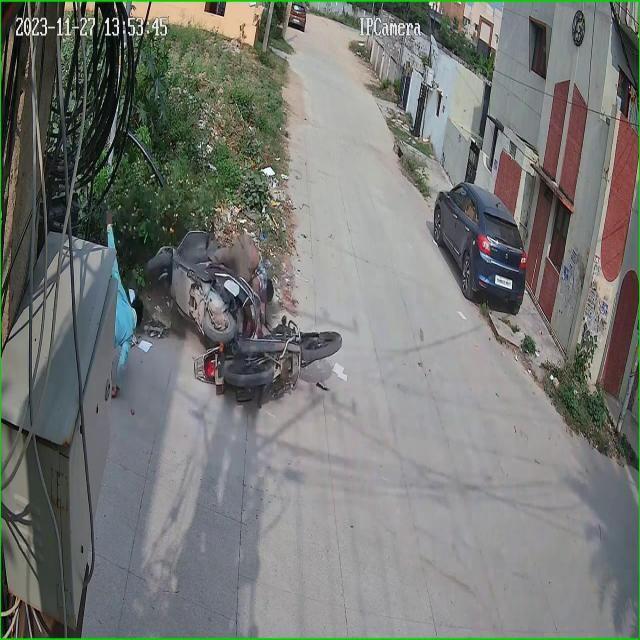accident: (116, 188, 353, 432)
